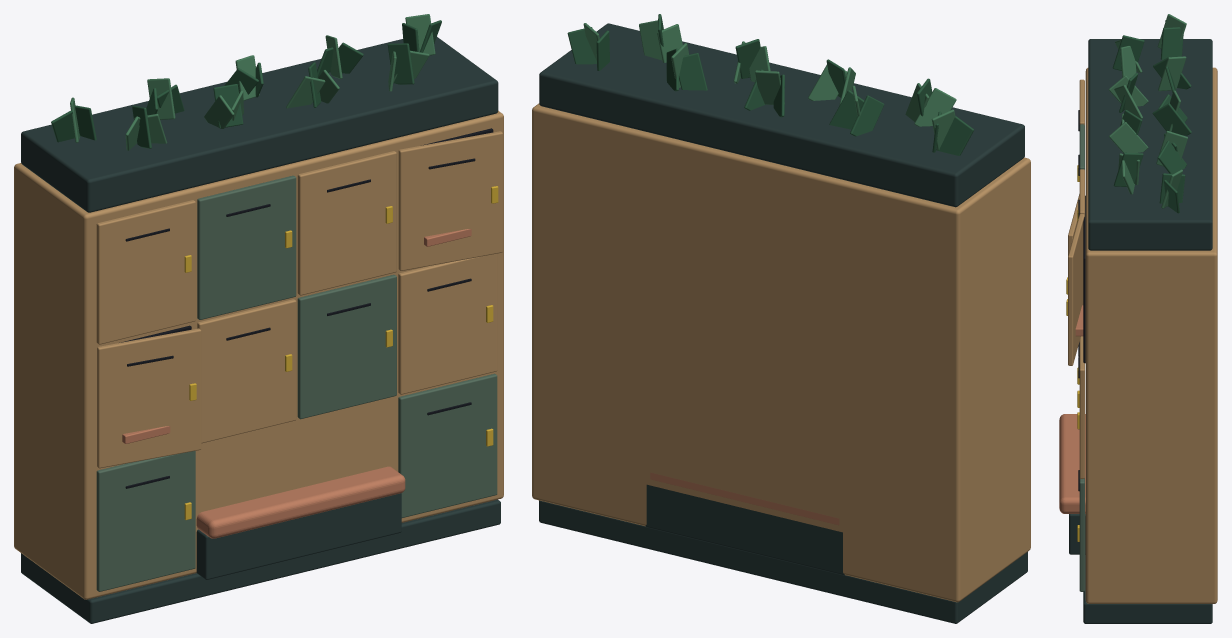
Rendered from campus-lockers-nordic.glb.
3 views of the same model, side by side, from view 1: azimuth 30°, elevation 25°; view 2: azimuth 150°, elevation 25°; view 3: azimuth 270°, elevation 25° (orthographic). The views are drawn at different scales.
Bounding box in the file's own units: 1.85 × 2.03 × 0.66.
